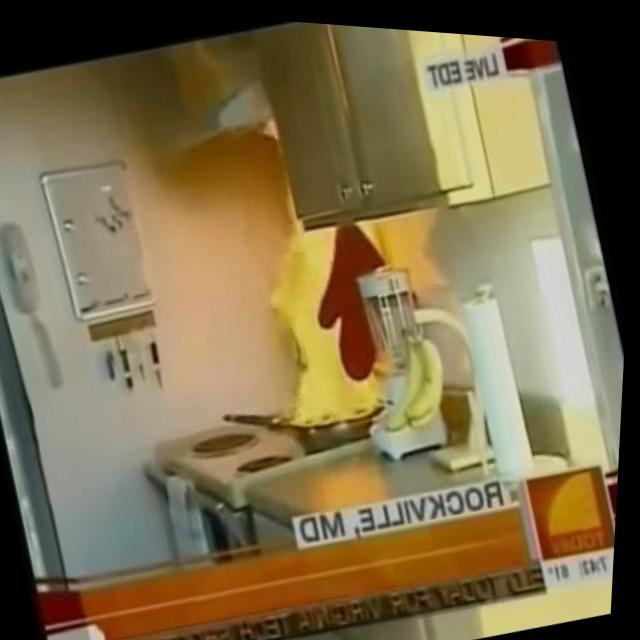fire: (242, 197, 397, 431)
